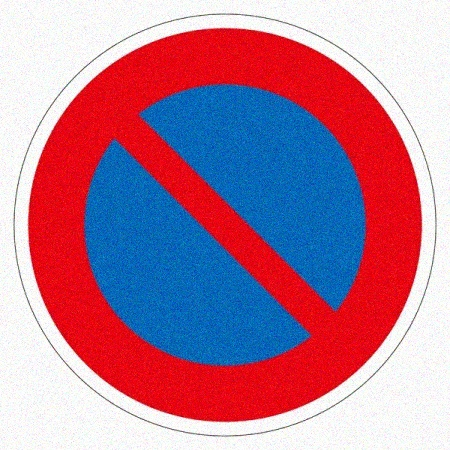Prohibition_sign: (8, 5, 449, 450)
